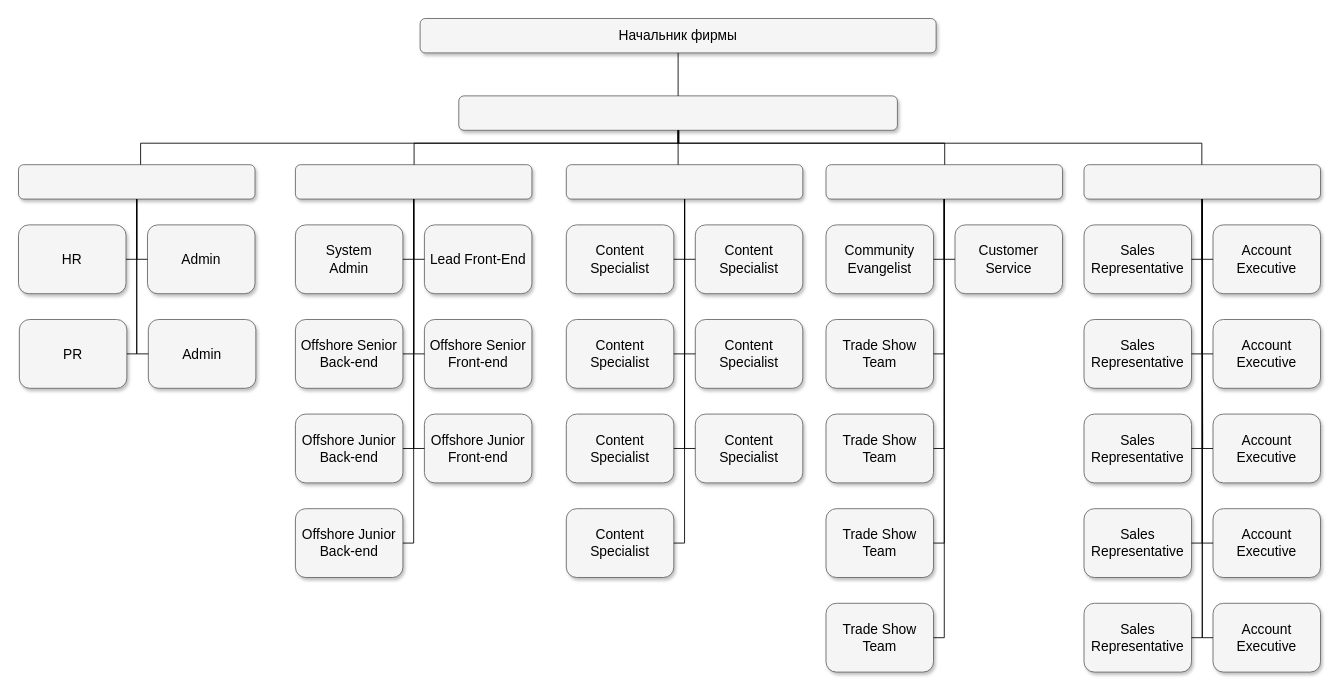
The diagram is 1341 pixels wide and 693 high, and some of its shapes have lost their labels. Each missing label, with the centre of its shape:
"CCO" goes at [685,182].
"CFO" goes at [137,182].
"CMO" goes at [945,182].
"COO" goes at [679,114].
"CSO" goes at [1203,182].
"CTO" goes at [414,182].
